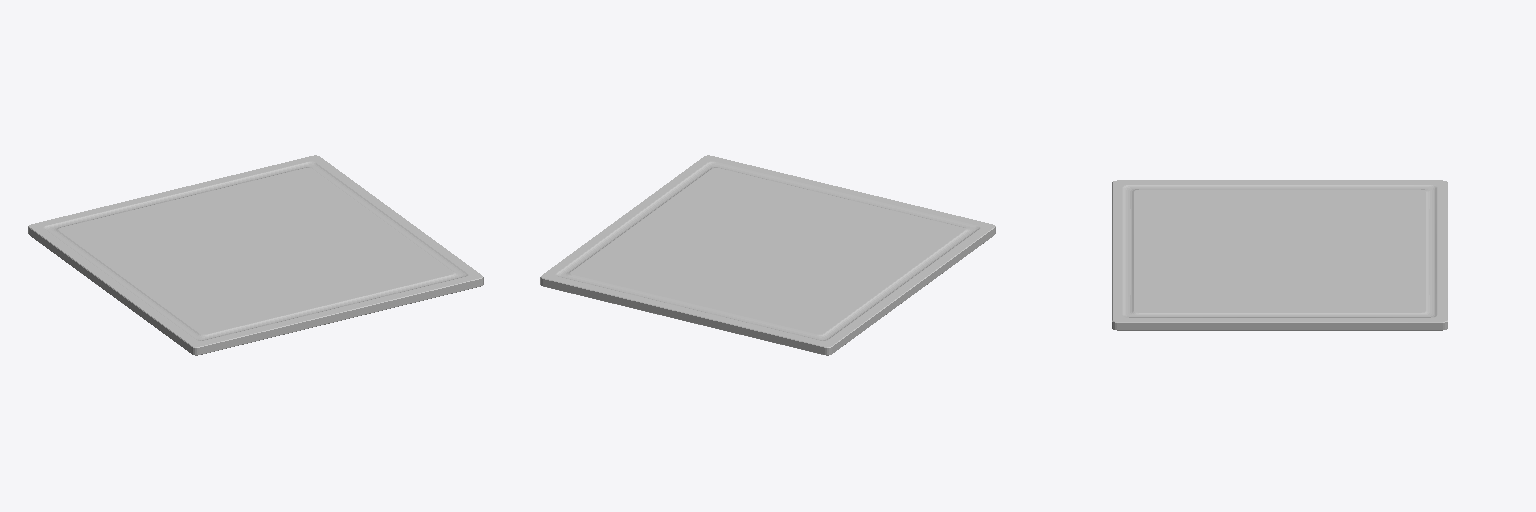
File: board.obj
The picture shows the model from 3 angles: view 1: azimuth 30°, elevation 25°; view 2: azimuth 150°, elevation 25°; view 3: azimuth 270°, elevation 25°; orthographic projection.
Parts seen in each view (by area): view 1: board; view 2: board; view 3: board.
Boxes of the visible parts, x1=… form: board: x1=28, y1=155, x2=483, y2=355; board: x1=540, y1=155, x2=995, y2=355; board: x1=1112, y1=180, x2=1447, y2=330.
Bounding box in the file's own units: 0.5532 × 0.0174 × 0.5532.